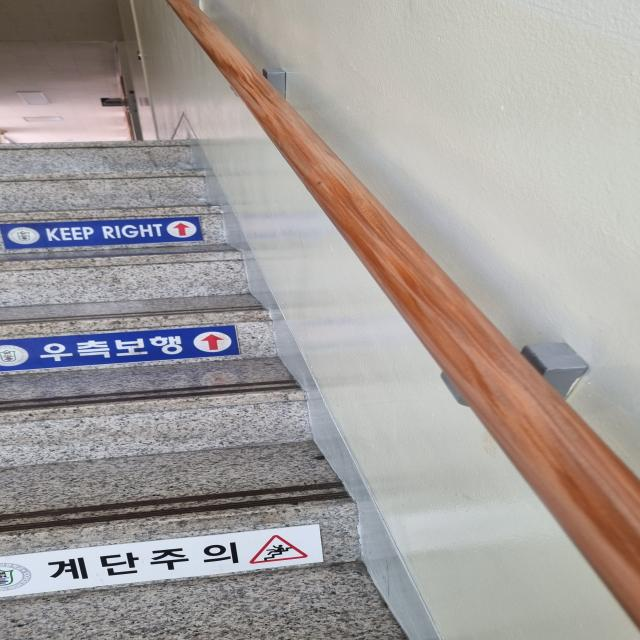logo: (1, 562, 35, 592), (0, 344, 34, 368), (6, 226, 43, 246)
